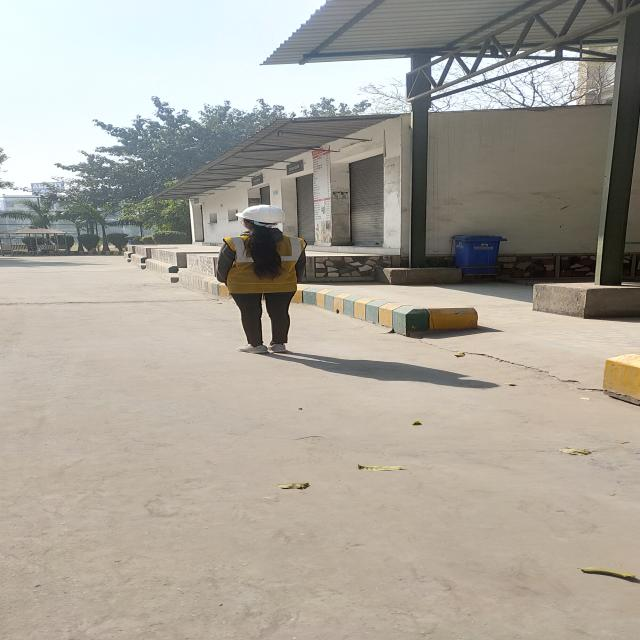safe: (216, 205, 306, 352)
